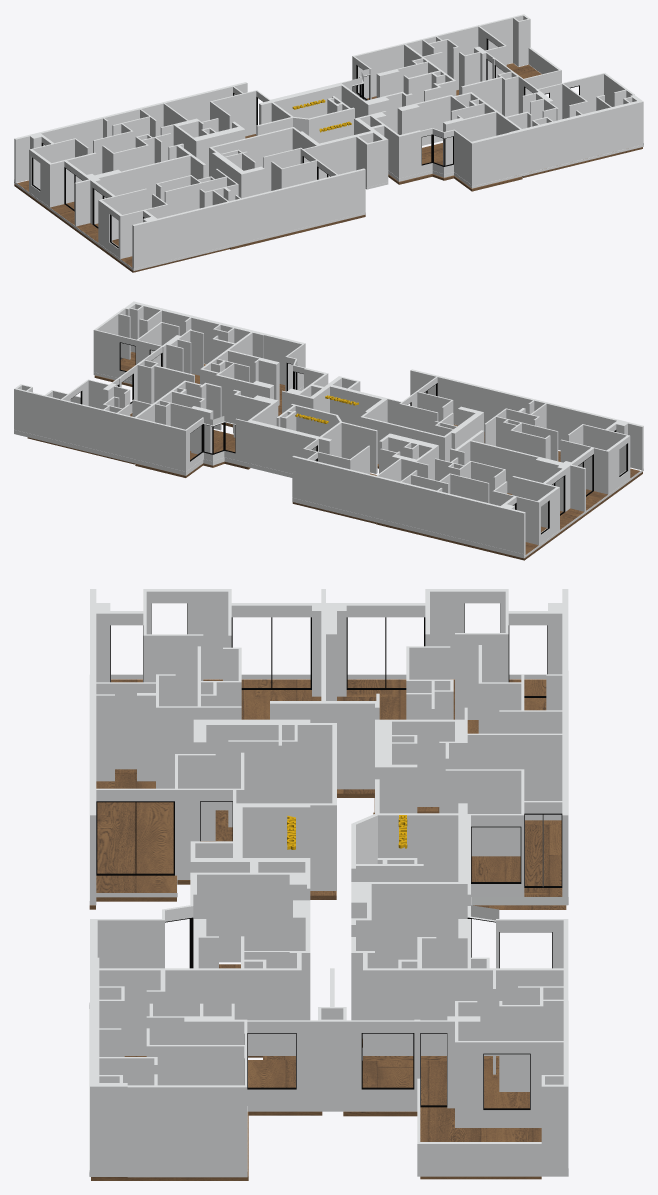
File: PISO-3.glb
3 views of the same model, one above another, from view 1: azimuth 30°, elevation 25°; view 2: azimuth 150°, elevation 25°; view 3: azimuth 270°, elevation 25° (orthographic). The views are drawn at different scales.
Parts seen in each view (by area): view 1: walls-parent, tipo-8-parent, tipo-2-parent, tipo-3-parent, tipo-1-parent; view 2: walls-parent, tipo-3-parent, tipo-5-parent, tipo-2-parent; view 3: walls-parent, tipo-1-parent, tipo-6-parent, tipo-4-parent, tipo-3-parent, tipo-7-parent, tipo-2-parent.
Boxes of the visible parts, x1,y1,x2,y2 form: walls-parent: [14, 14, 643, 270]; tipo-8-parent: [388, 143, 522, 191]; tipo-2-parent: [75, 223, 229, 272]; tipo-3-parent: [14, 180, 91, 229]; tipo-1-parent: [229, 214, 365, 249]; walls-parent: [14, 301, 643, 558]; tipo-3-parent: [376, 510, 584, 560]; tipo-5-parent: [135, 430, 250, 477]; tipo-2-parent: [507, 451, 642, 515]; walls-parent: [89, 589, 568, 1177]; tipo-1-parent: [89, 774, 336, 909]; tipo-6-parent: [343, 1060, 541, 1179]; tipo-4-parent: [373, 812, 566, 909]; tipo-3-parent: [337, 679, 561, 824]; tipo-7-parent: [91, 1060, 322, 1180]; tipo-2-parent: [111, 679, 321, 773].
Size of what is drawn, in the model's own units: 37.46 by 3.59 by 15.23.
Materials: 12 (10 with a texture image).
